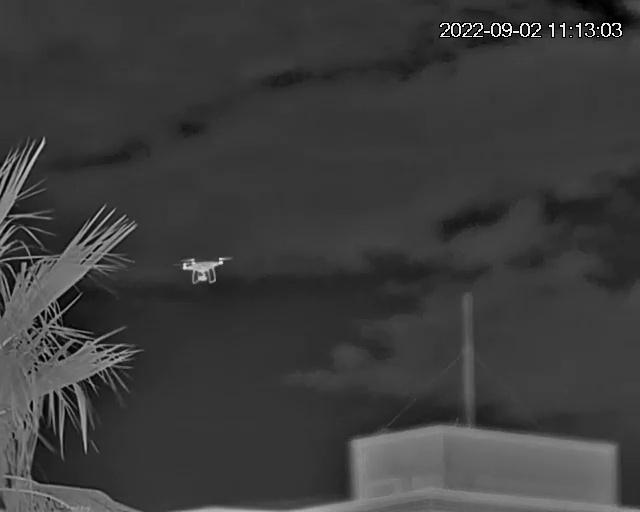DJI-Phantom: (176, 254, 235, 286)
